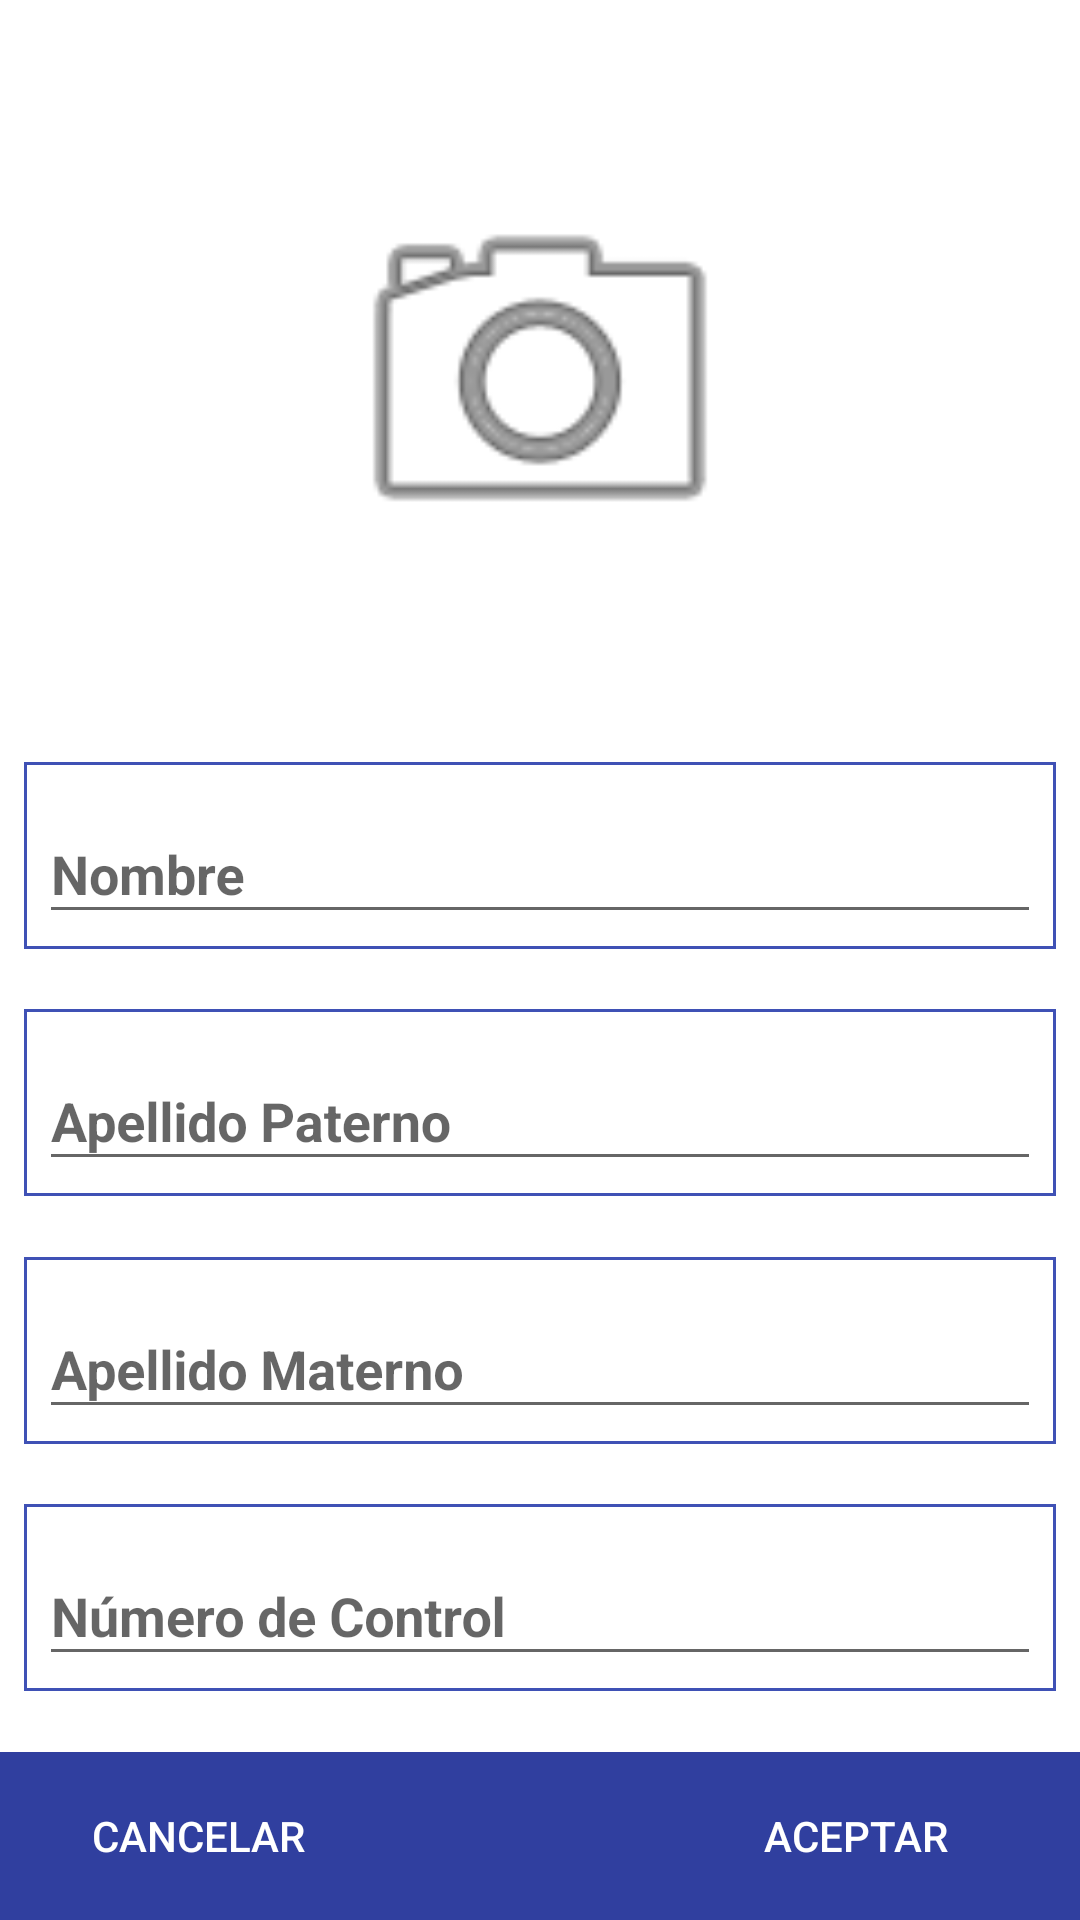

Point at icon controls on the screen. Image size 1080px x 1920px, points as [x,y].
camera: [540,367]
